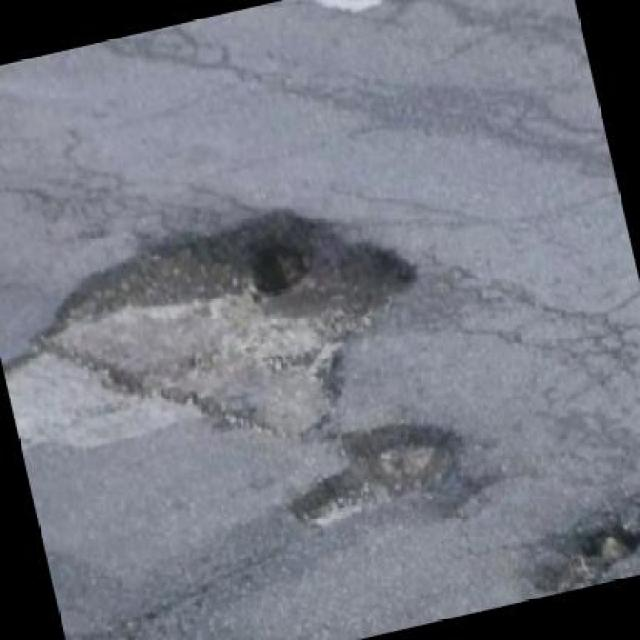pothole: (15, 173, 451, 489), (276, 398, 484, 536), (503, 481, 639, 597)
